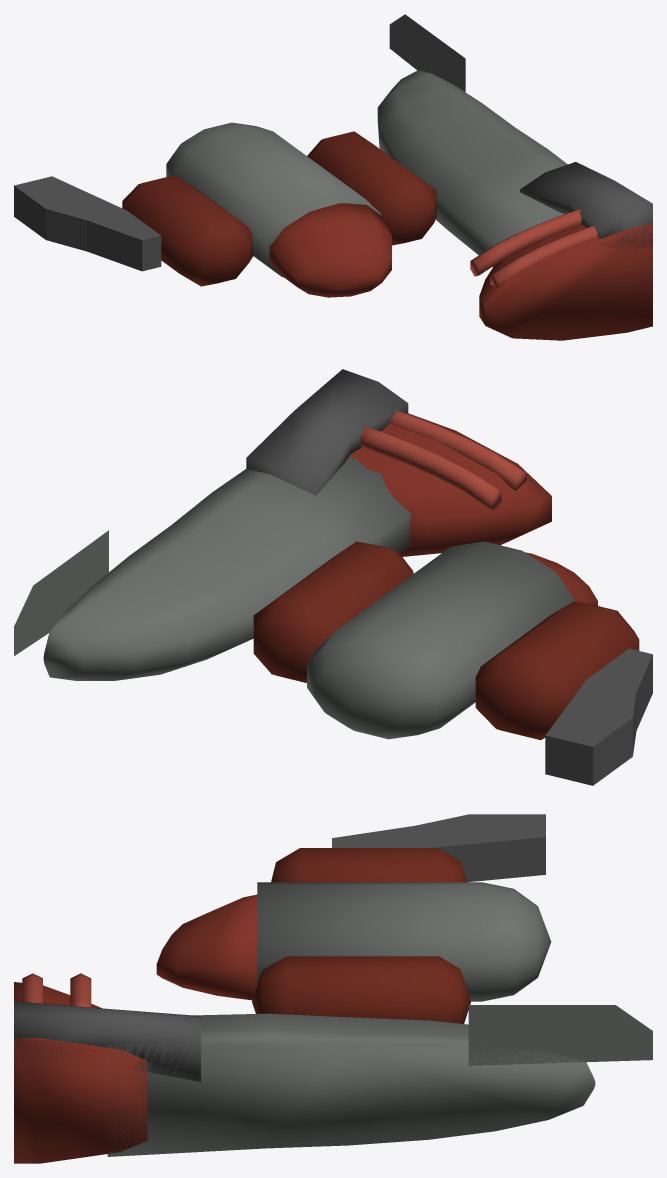
File: newshi-201.glb
The picture shows the model from 3 angles, top to bottom: view 1: azimuth 30°, elevation 25°; view 2: azimuth 150°, elevation 25°; view 3: azimuth 270°, elevation 25°; orthographic projection. The views are drawn at different scales.
Parts seen in each view (by area): view 1: newshi-201; view 2: newshi-201; view 3: newshi-201.
Part boxes in pixels (<box>): newshi-201: <box>14,14,652,340</box>; newshi-201: <box>14,369,652,785</box>; newshi-201: <box>14,814,652,1163</box>.
Size of the model in its own units: 1.83 by 0.5458 by 1.99.
